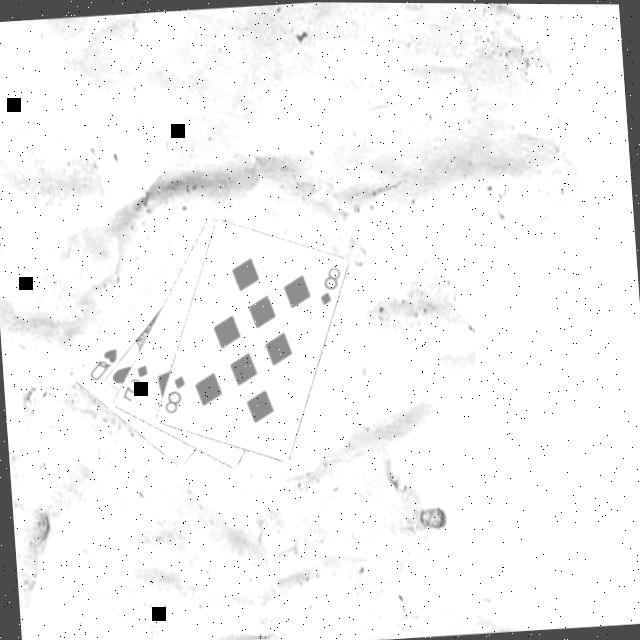5D: (115, 362, 152, 407)
8D: (158, 373, 190, 419), (312, 264, 344, 310)
QH: (83, 346, 120, 386)
